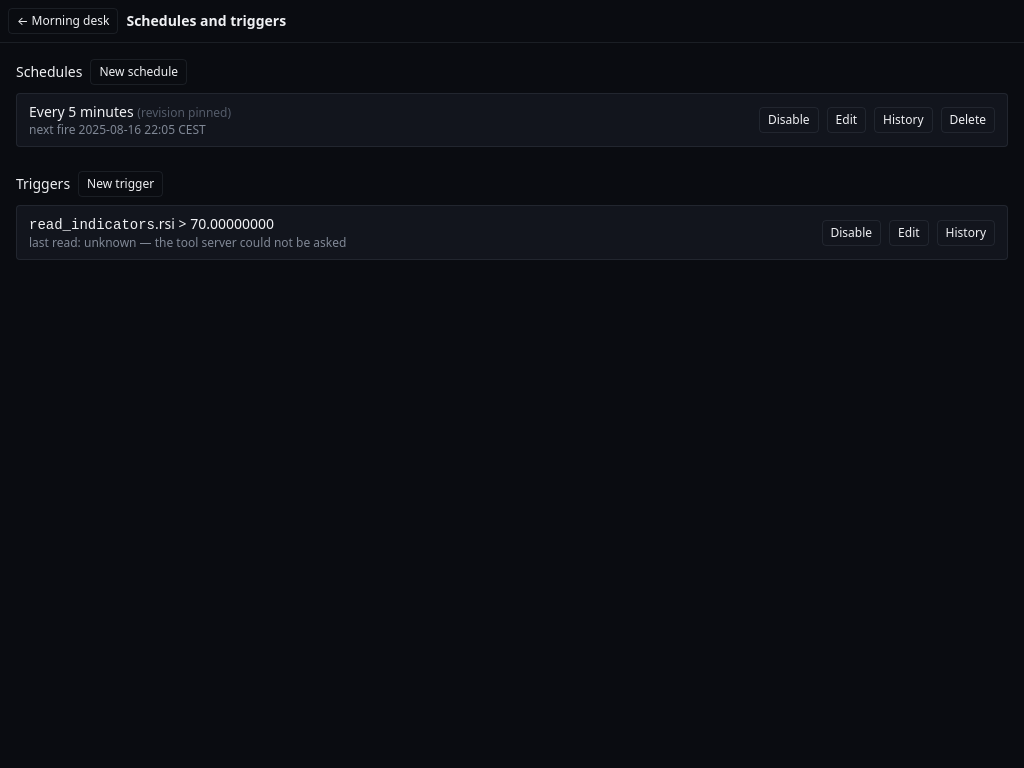
creating and editing a schedule › shows the module's own refusal, unchanged
Click the button "New schedule". click: x=139, y=72
box: [90,59,187,85]
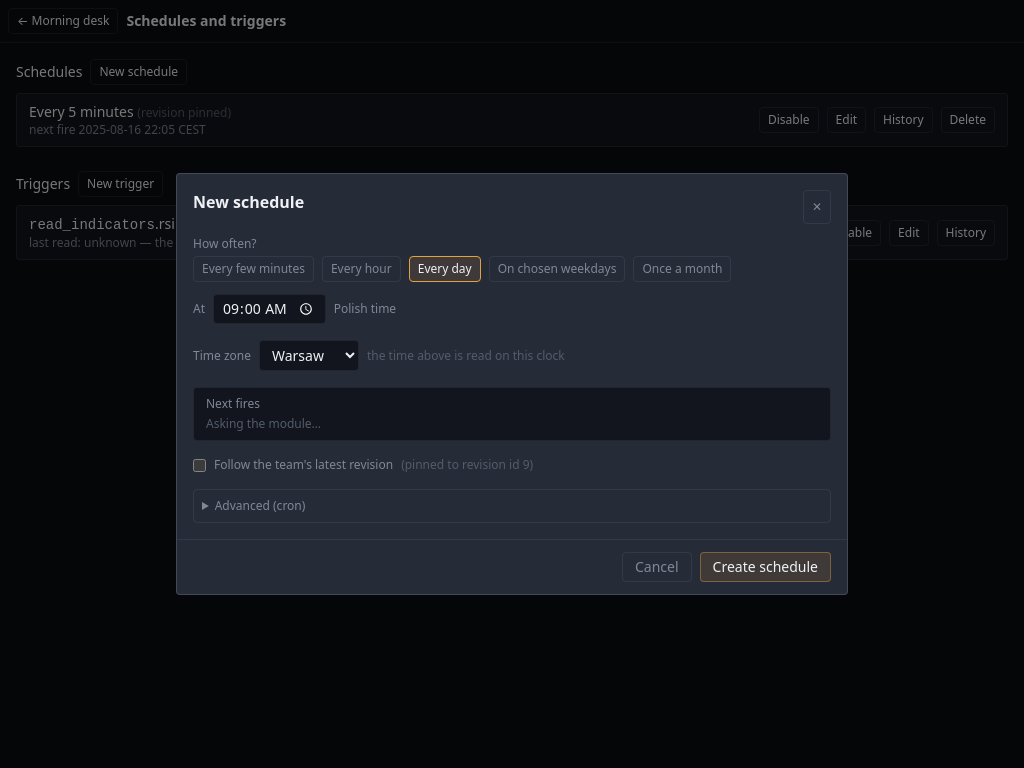
Click the button "Create schedule". click: x=765, y=567
box: [700,552,831,582]
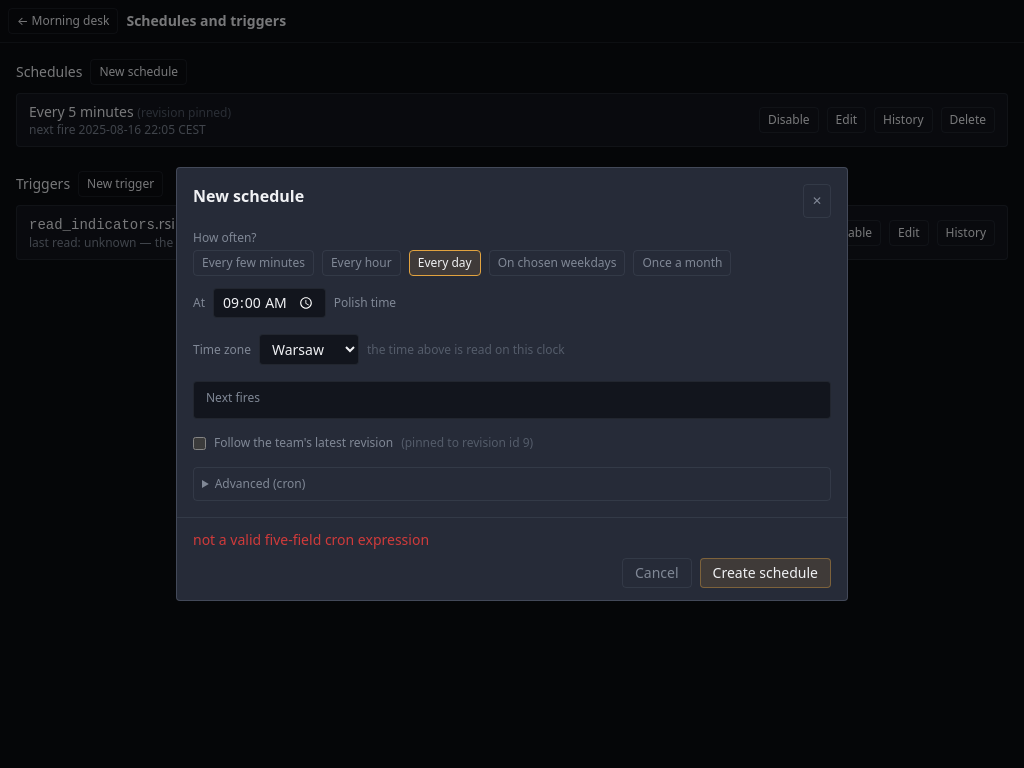
Result: the text "not a valid five-field cron expression" is shown at [193,530,429,549]
